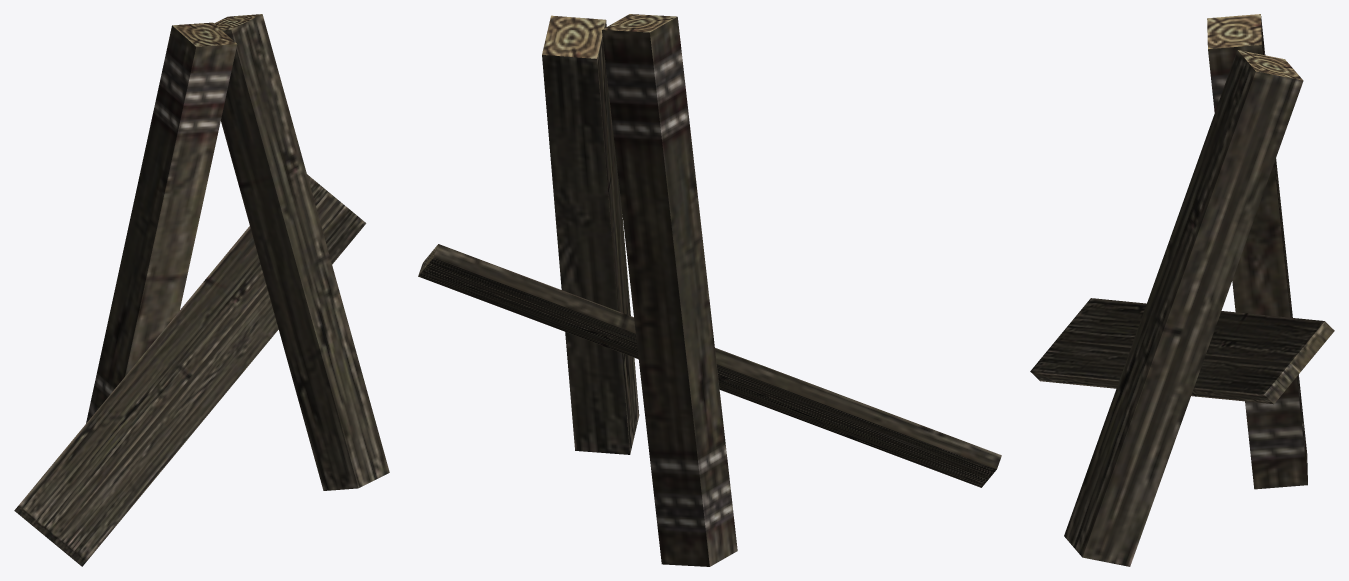
The model's file is Wood05_Parts_LostTemple_001.FBX.
3 views of the same model, side by side, from view 1: azimuth 30°, elevation 25°; view 2: azimuth 150°, elevation 25°; view 3: azimuth 270°, elevation 25° (orthographic). The views are drawn at different scales.
Visible parts, largest first — view 1: Wood05_Parts_LostTemple_001; view 2: Wood05_Parts_LostTemple_001; view 3: Wood05_Parts_LostTemple_001.
Boxes of the visible parts, x1=… form: Wood05_Parts_LostTemple_001: x1=14, y1=14, x2=389, y2=566; Wood05_Parts_LostTemple_001: x1=418, y1=14, x2=1001, y2=566; Wood05_Parts_LostTemple_001: x1=1030, y1=14, x2=1334, y2=566.
Bounding box in the file's own units: 162 × 161 × 90.43.
1 material, 1 textured.
